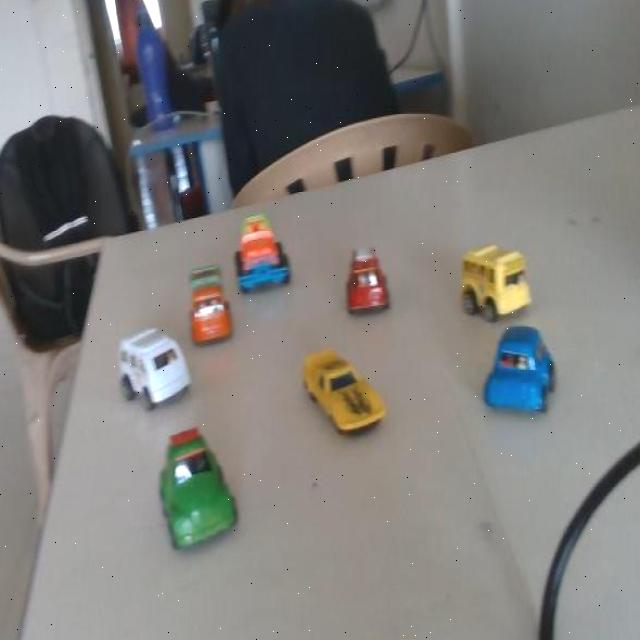car: (88, 391, 278, 619), (89, 293, 208, 441), (277, 340, 399, 452), (476, 320, 558, 427), (229, 201, 306, 297), (174, 250, 238, 363), (447, 242, 526, 332), (331, 236, 396, 330)
